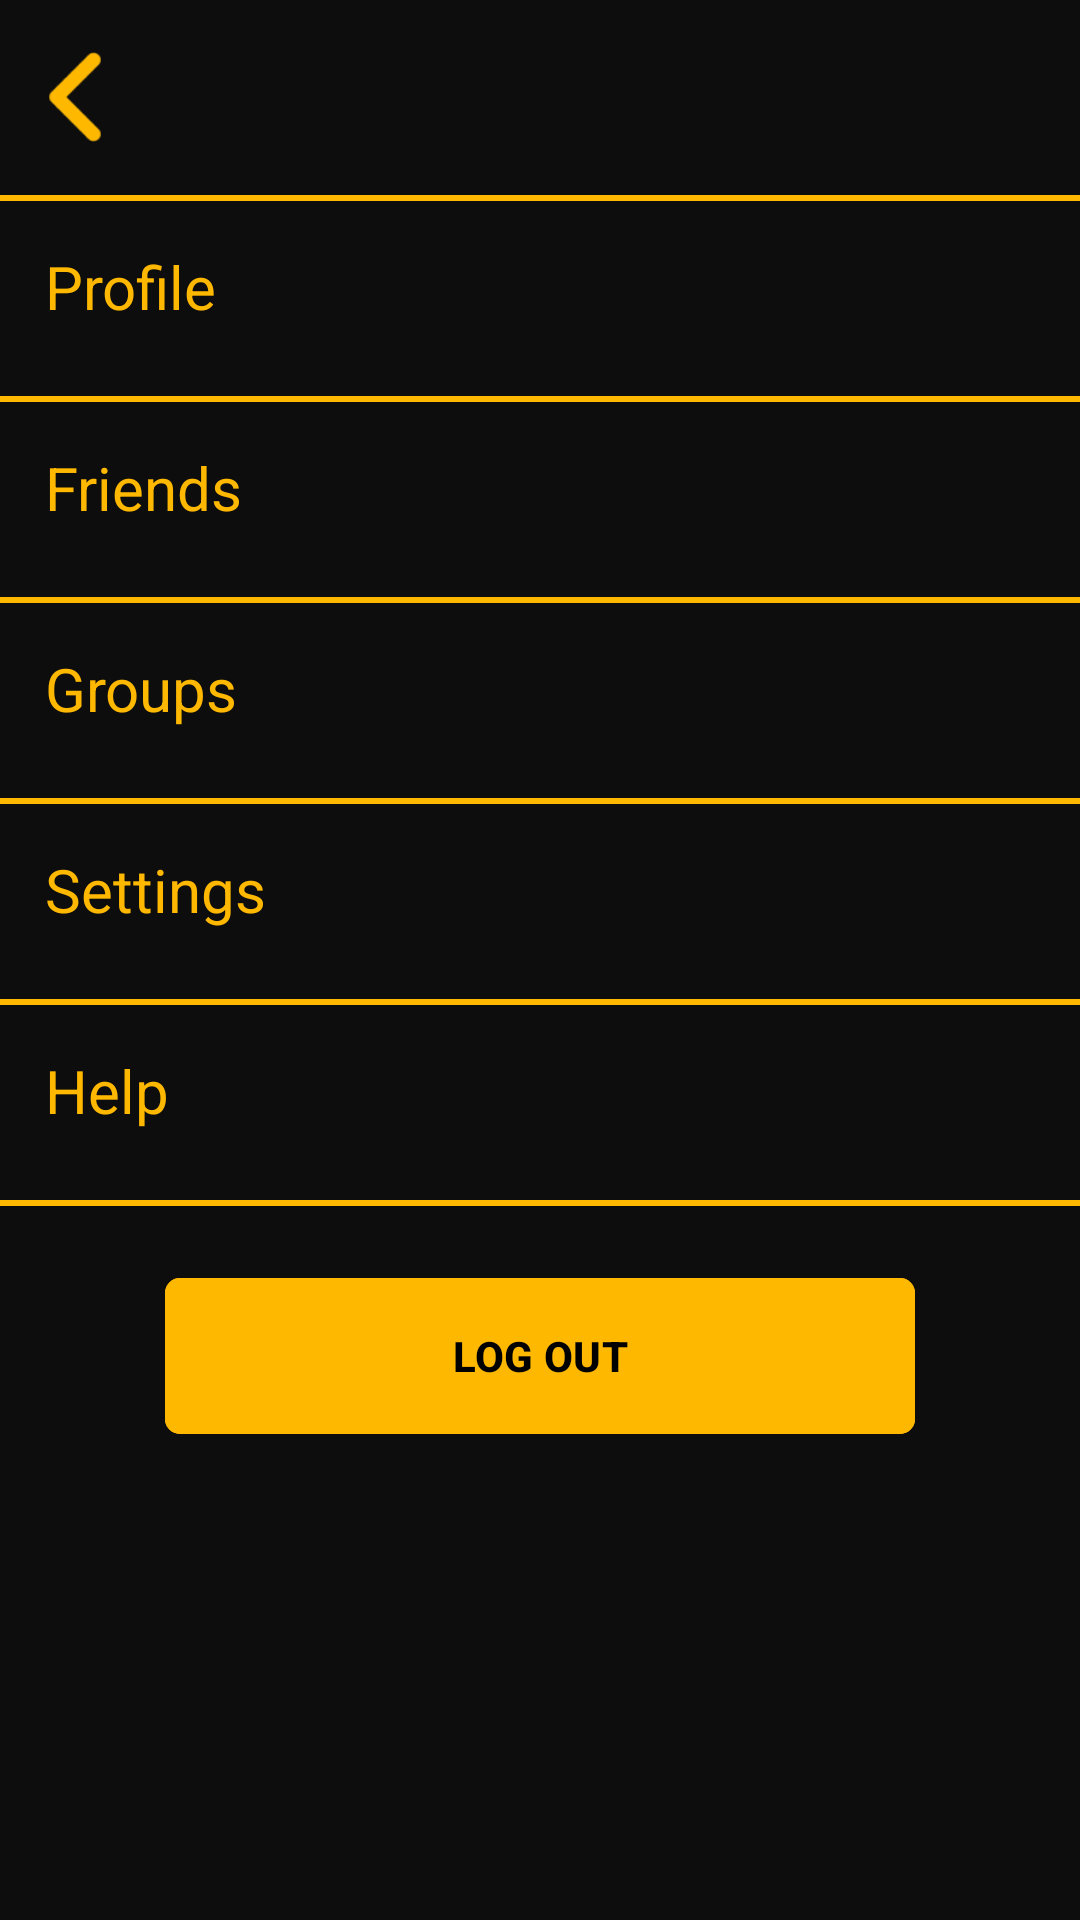

Screen size 1080px×1920px. Icon name, then its center in pixels as [x,y]:
backbtn: [75,97]
